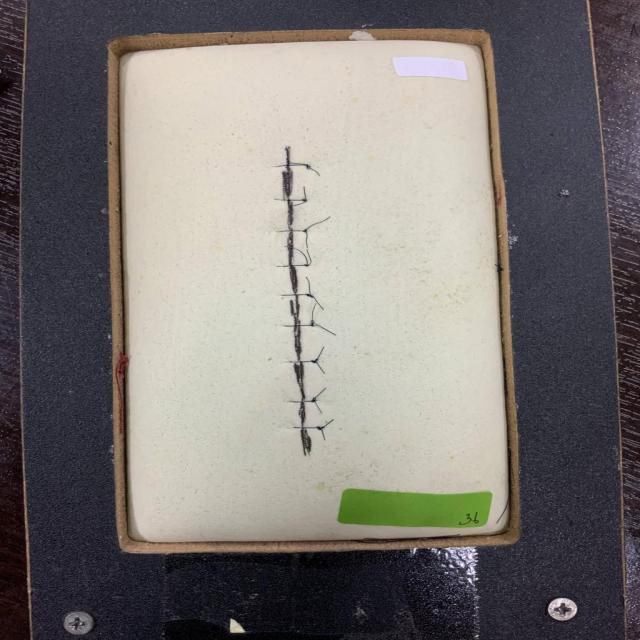knot: (314, 425, 327, 432), (299, 197, 309, 204), (309, 359, 319, 365), (309, 398, 318, 404), (304, 292, 313, 298), (308, 322, 316, 328), (304, 163, 312, 169), (301, 228, 309, 234), (302, 263, 311, 268)
leftover: (283, 245, 308, 266), (305, 216, 331, 231), (312, 322, 336, 336), (309, 295, 324, 311), (312, 387, 327, 401), (314, 346, 325, 362), (314, 361, 326, 374), (313, 400, 323, 414), (311, 302, 317, 325), (307, 166, 320, 176), (290, 200, 306, 208), (305, 276, 311, 296), (305, 249, 312, 266), (321, 419, 334, 428), (287, 162, 308, 166), (304, 231, 308, 249), (321, 427, 326, 441), (303, 185, 307, 200)
stitch: (278, 164, 309, 167), (285, 324, 314, 327), (282, 264, 309, 267), (280, 230, 307, 233), (292, 400, 317, 403), (293, 360, 317, 363), (281, 294, 310, 296), (278, 199, 307, 201), (292, 427, 317, 429)
wound: (285, 148, 308, 450)
